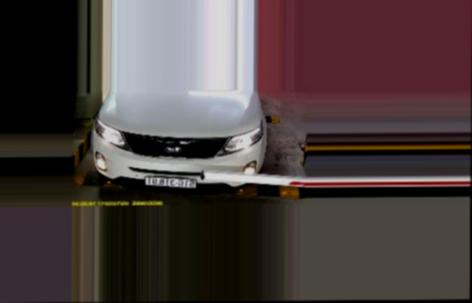License_Plate: (145, 174, 198, 191)
